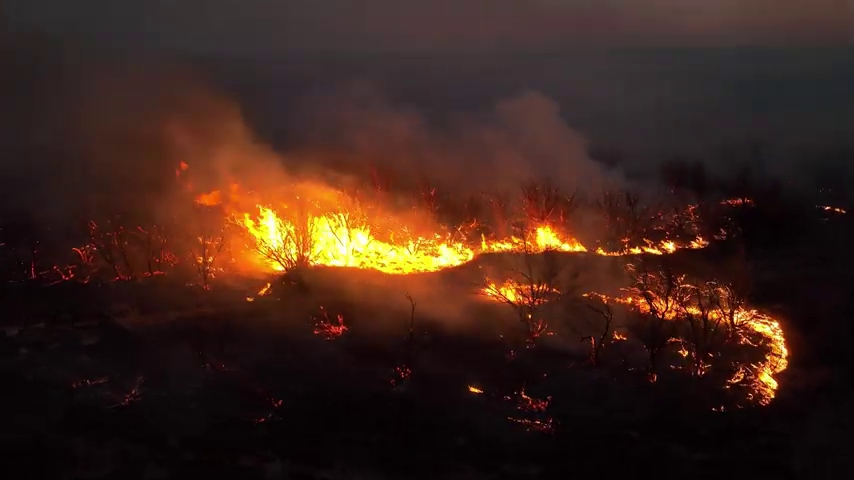forest_fire: (583, 283, 788, 403), (239, 206, 590, 274), (592, 237, 707, 256)
